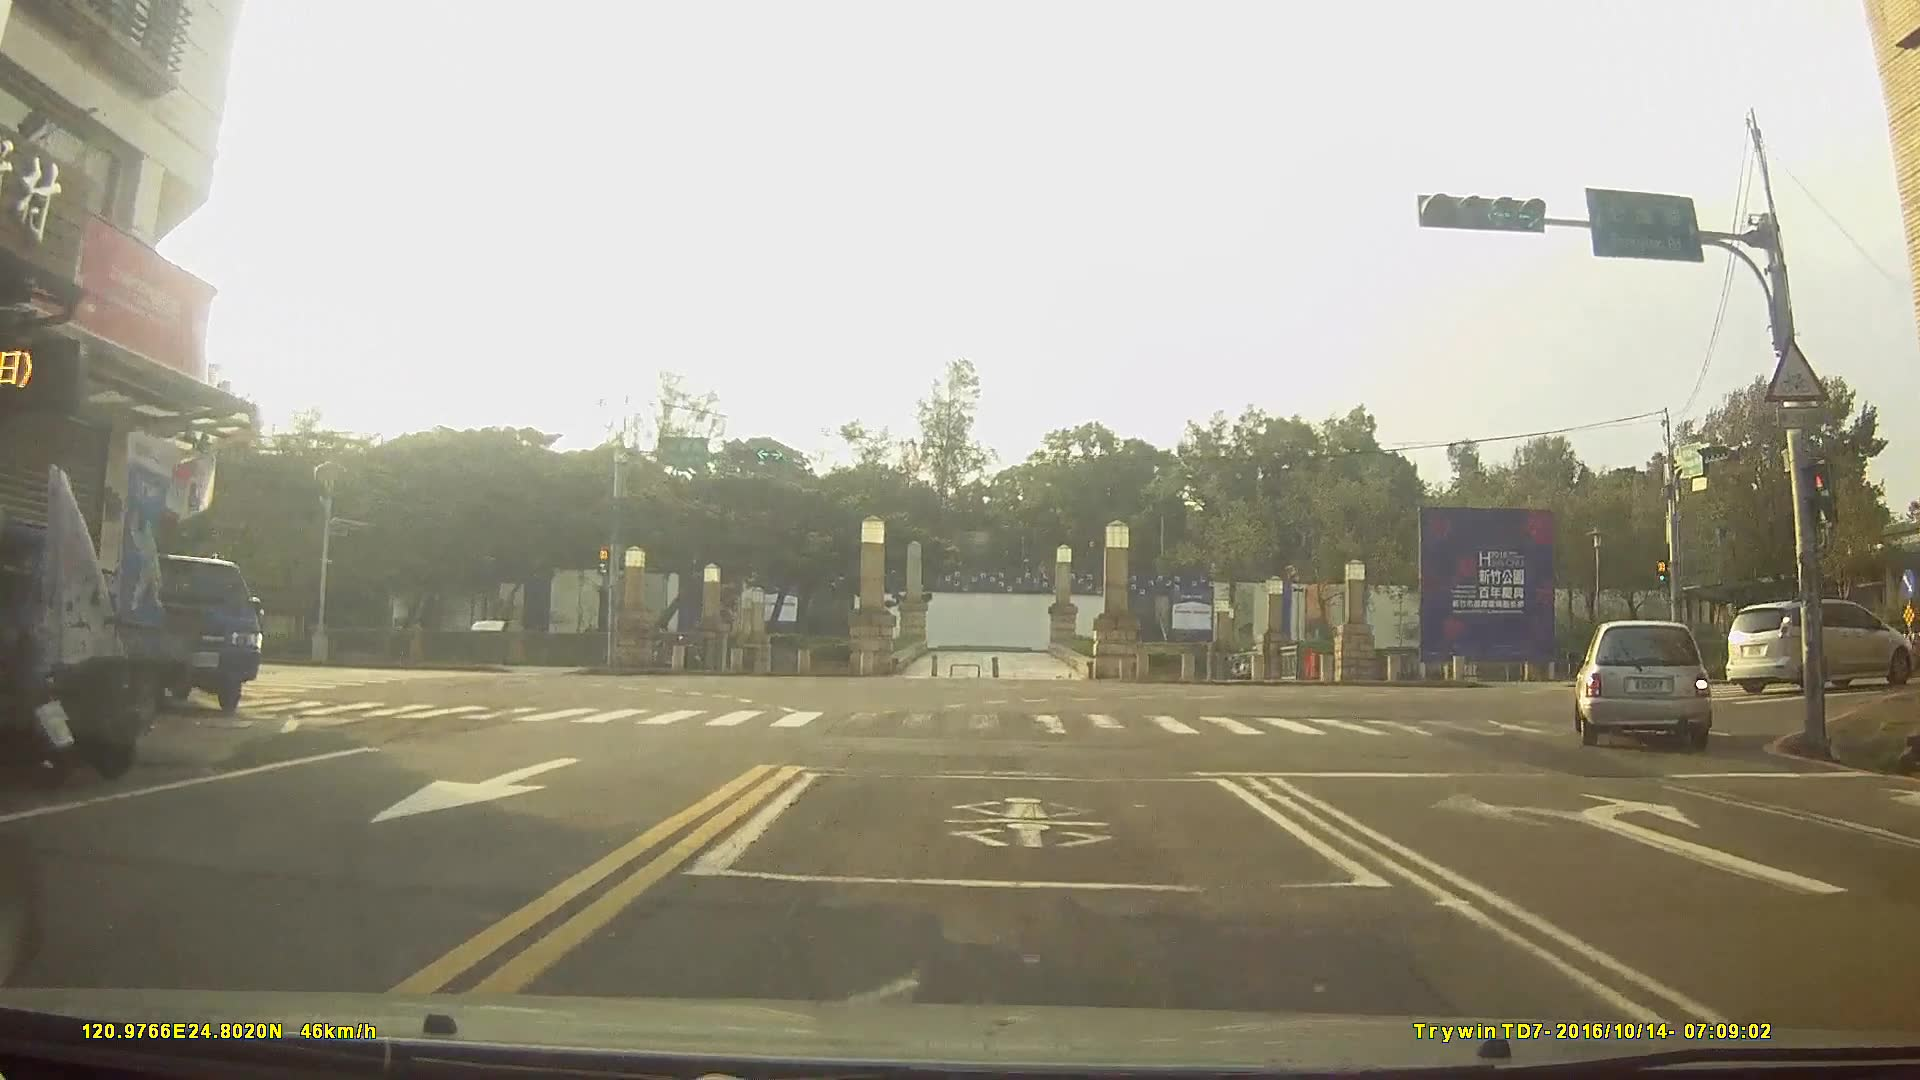vehicle: (135, 549, 258, 713), (1724, 596, 1911, 694), (1572, 617, 1712, 746)
